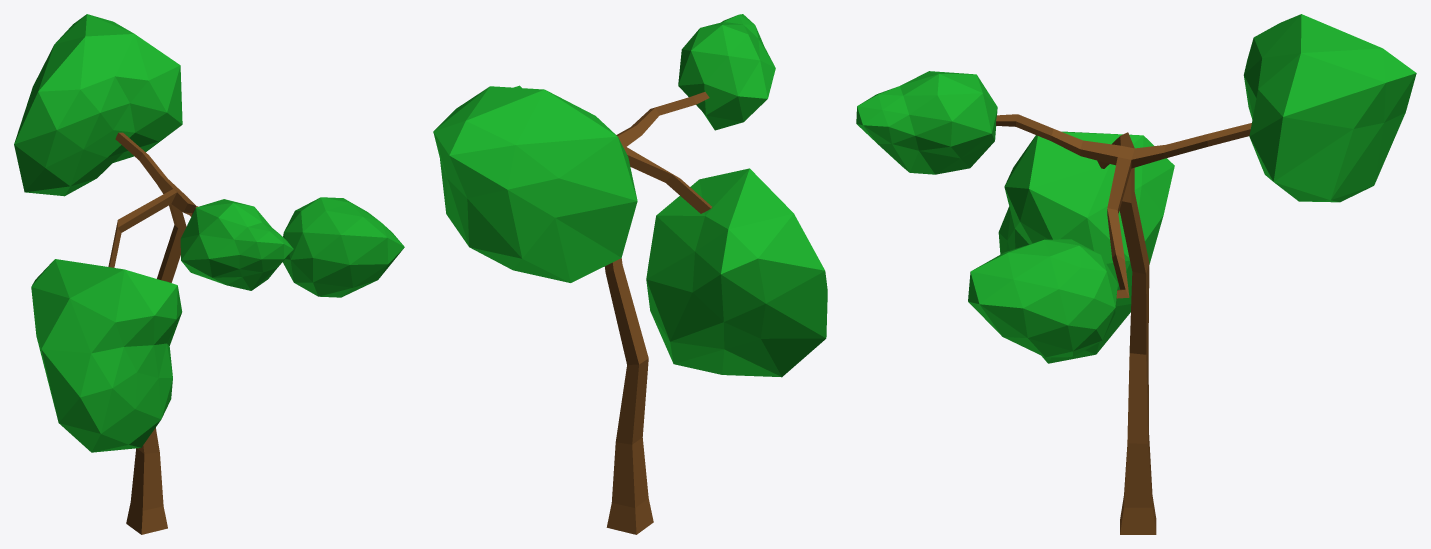
The picture shows the model from 3 angles, left to right: view 1: azimuth 30°, elevation 25°; view 2: azimuth 150°, elevation 25°; view 3: azimuth 270°, elevation 25°; orthographic projection. The views are drawn at different scales.
Visible parts, largest first — view 1: Geode; view 2: Geode; view 3: Geode.
Part boxes in pixels (left/top/right/bottom): Geode: left=14, top=14, right=404, bottom=534; Geode: left=433, top=14, right=827, bottom=534; Geode: left=856, top=14, right=1416, bottom=534.
Size of the model in its own units: 4.3 by 5.33 by 5.23.
